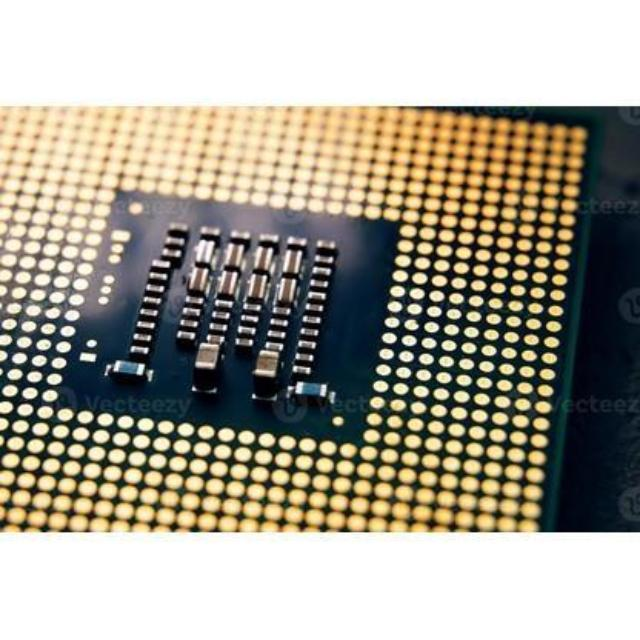CPU: (0, 71, 580, 542)
